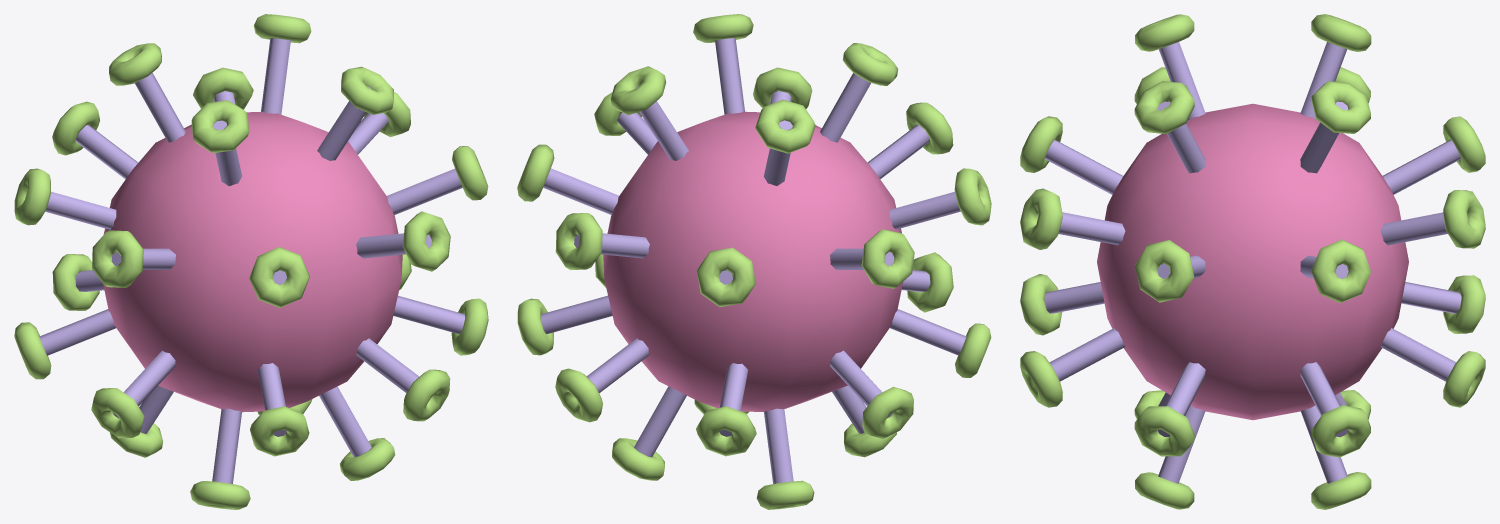
Rendered from virus.gltf.
3 renders of one model, left to right at view 1: azimuth 30°, elevation 25°; view 2: azimuth 150°, elevation 25°; view 3: azimuth 270°, elevation 25°, orthographic. The views are drawn at different scales.
Parts seen in each view (by area): view 1: Virus; view 2: Virus; view 3: Virus.
Boxes of the visible parts, x1,y1,x2,y2 form: Virus: (14,14,488,509); Virus: (517,14,991,509); Virus: (1020,14,1485,509).
Size of the model in its own units: 2.62 by 2.62 by 2.62.
